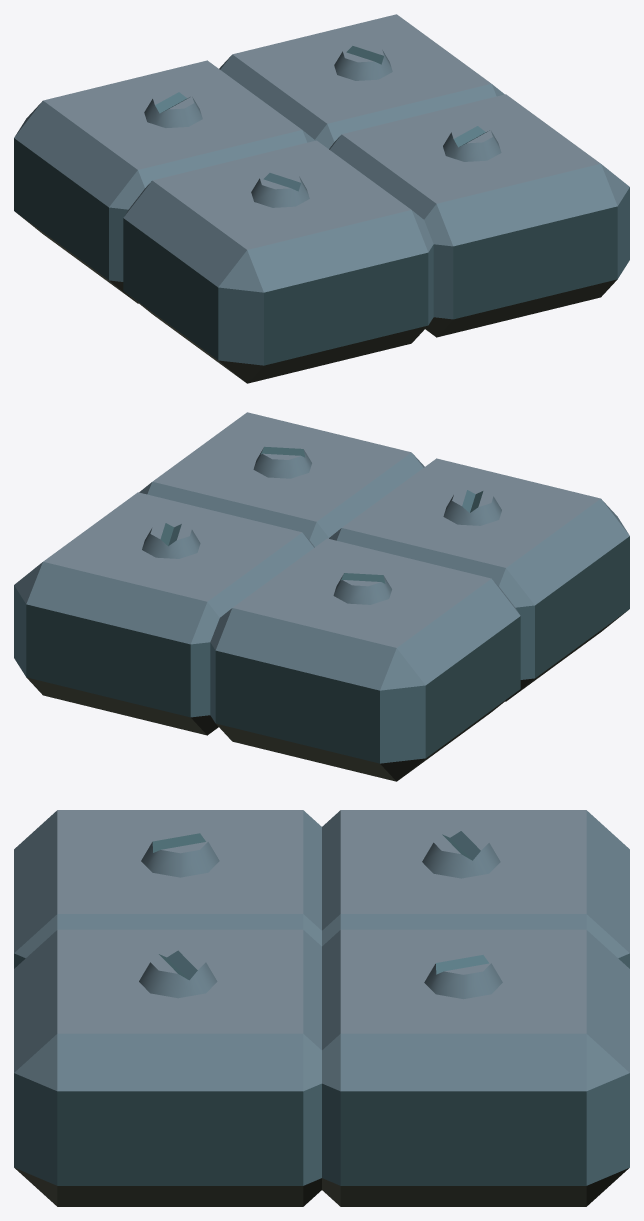
Rendered from m_kub_metal_floorFour.FBX.
3 renders of one model, top to bottom at view 1: azimuth 30°, elevation 25°; view 2: azimuth 150°, elevation 25°; view 3: azimuth 270°, elevation 25°, orthographic. The views are drawn at different scales.
Parts seen in each view (by area): view 1: m_kub_metal_floorFour; view 2: m_kub_metal_floorFour; view 3: m_kub_metal_floorFour.
Boxes of the visible parts, x1,y1,x2,y2 form: m_kub_metal_floorFour: (14,14,629,383); m_kub_metal_floorFour: (14,412,629,781); m_kub_metal_floorFour: (14,810,629,1206).
Bounding box in the file's own units: 2.18 × 0.7512 × 2.18.
